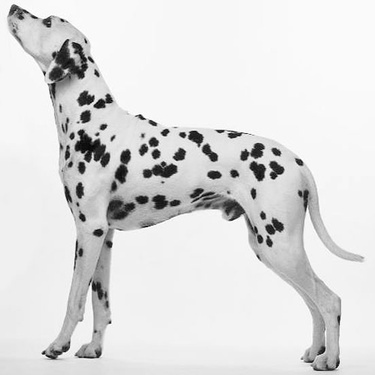dog: (2, 4, 370, 371)
